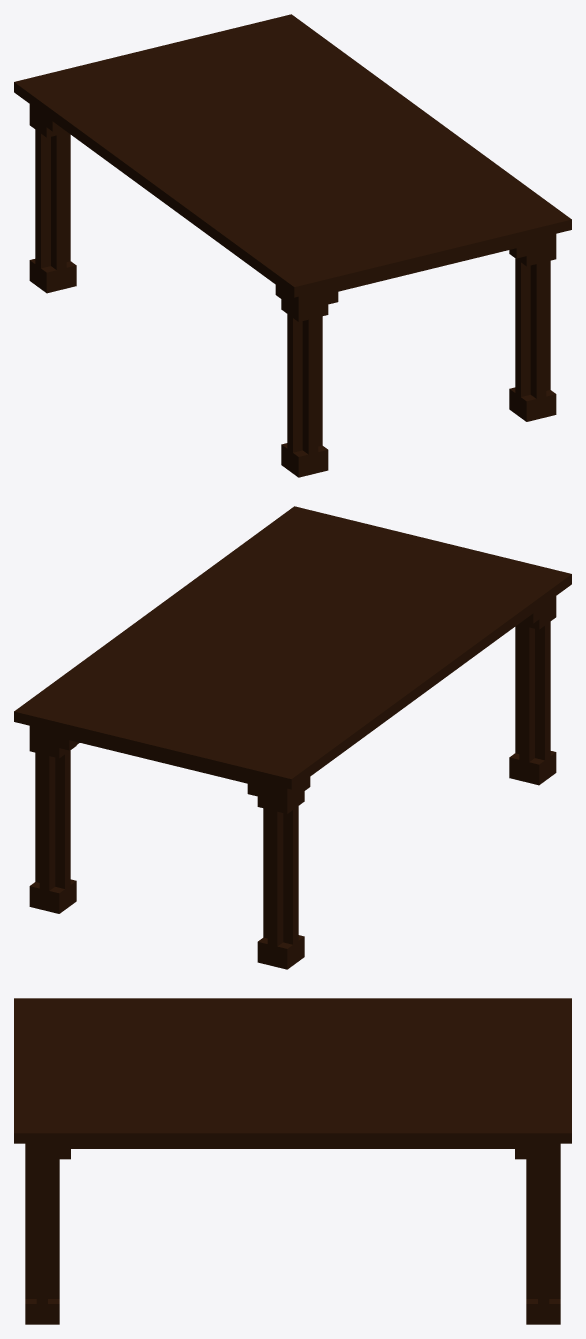
Rendered from Level1-4-17.obj.
3 renders of one model, top to bottom at view 1: azimuth 30°, elevation 25°; view 2: azimuth 150°, elevation 25°; view 3: azimuth 270°, elevation 25°, orthographic.
Visible parts, largest first — view 1: Level1-4-17; view 2: Level1-4-17; view 3: Level1-4-17.
Part boxes in pixels (left/top/right/bottom): Level1-4-17: left=14, top=14, right=571, bottom=477; Level1-4-17: left=14, top=506, right=571, bottom=969; Level1-4-17: left=14, top=998, right=571, bottom=1324.
Bounding box in the file's own units: 28 × 19 × 49.
1 material, 1 textured.
